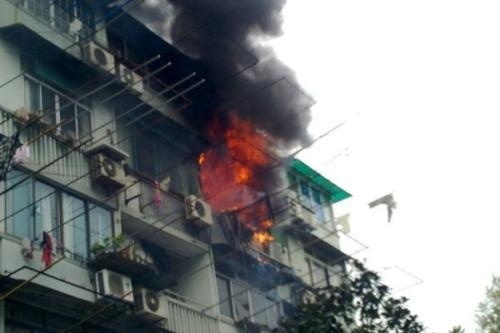fire: (199, 119, 278, 245)
